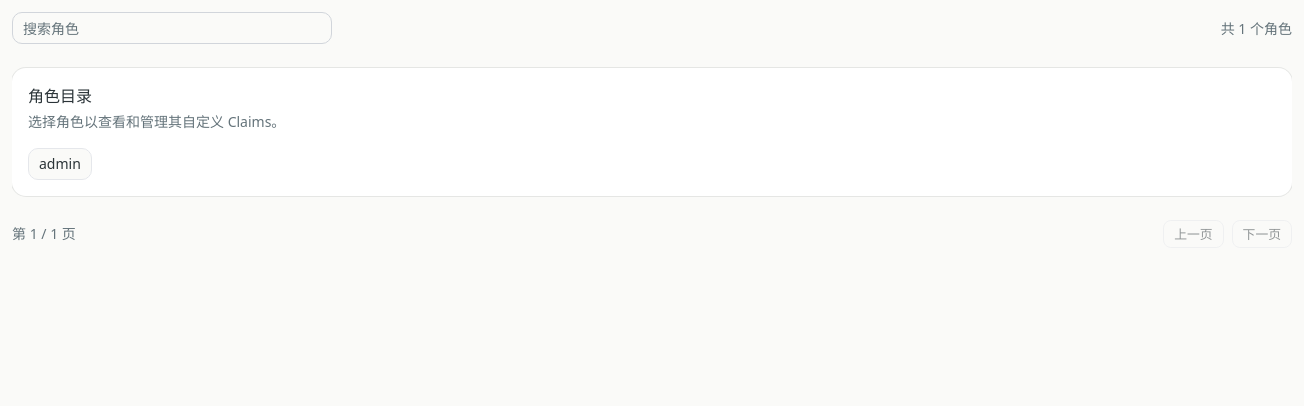
it: RolesPage › shows a Claims error without empty-state or write controls
Click the button "admin" at (60, 164), box [28,148,92,180]
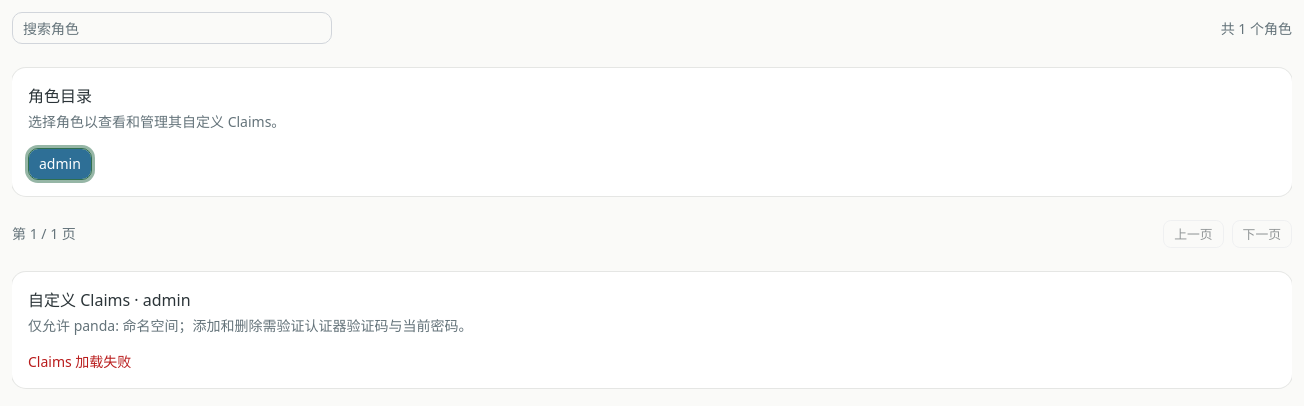
Check: the text "Claims 加载失败" is shown, box [28,352,131,371]
